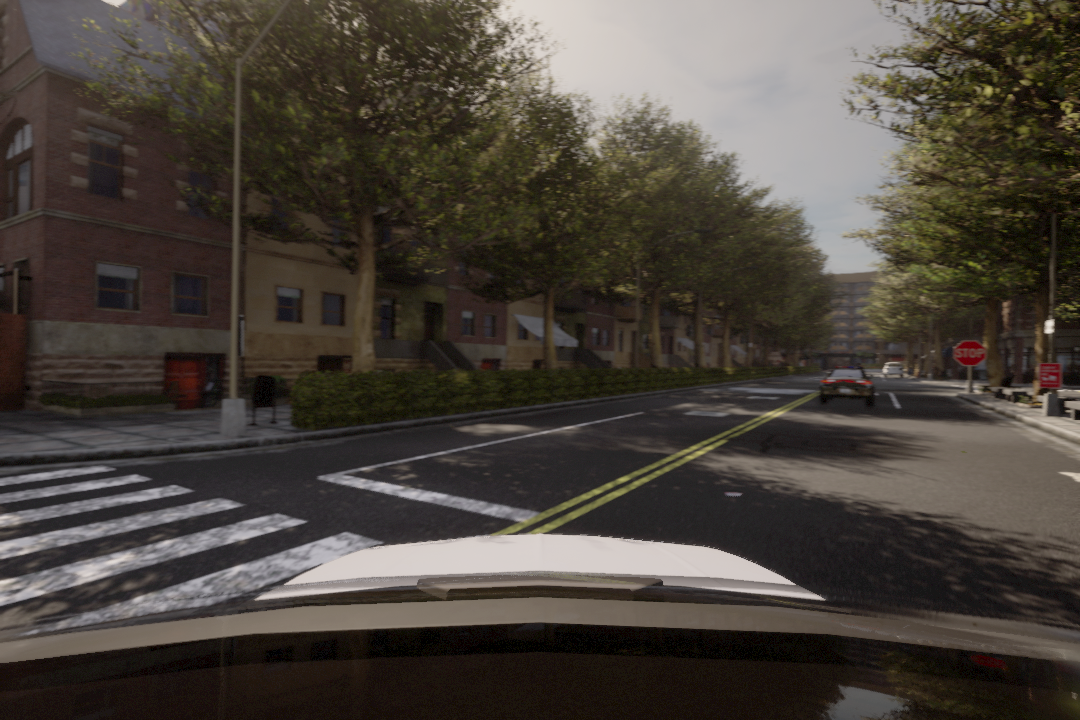TrafficSign_stop: (953, 338, 986, 368)
